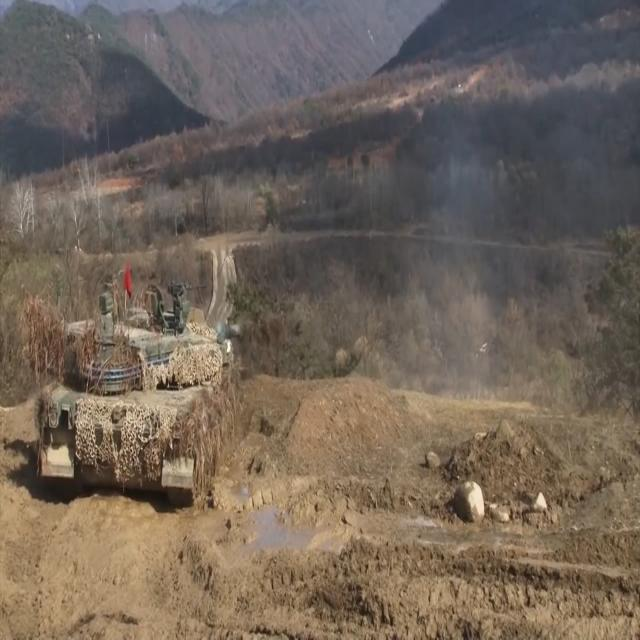korea tank: (21, 276, 285, 509)
